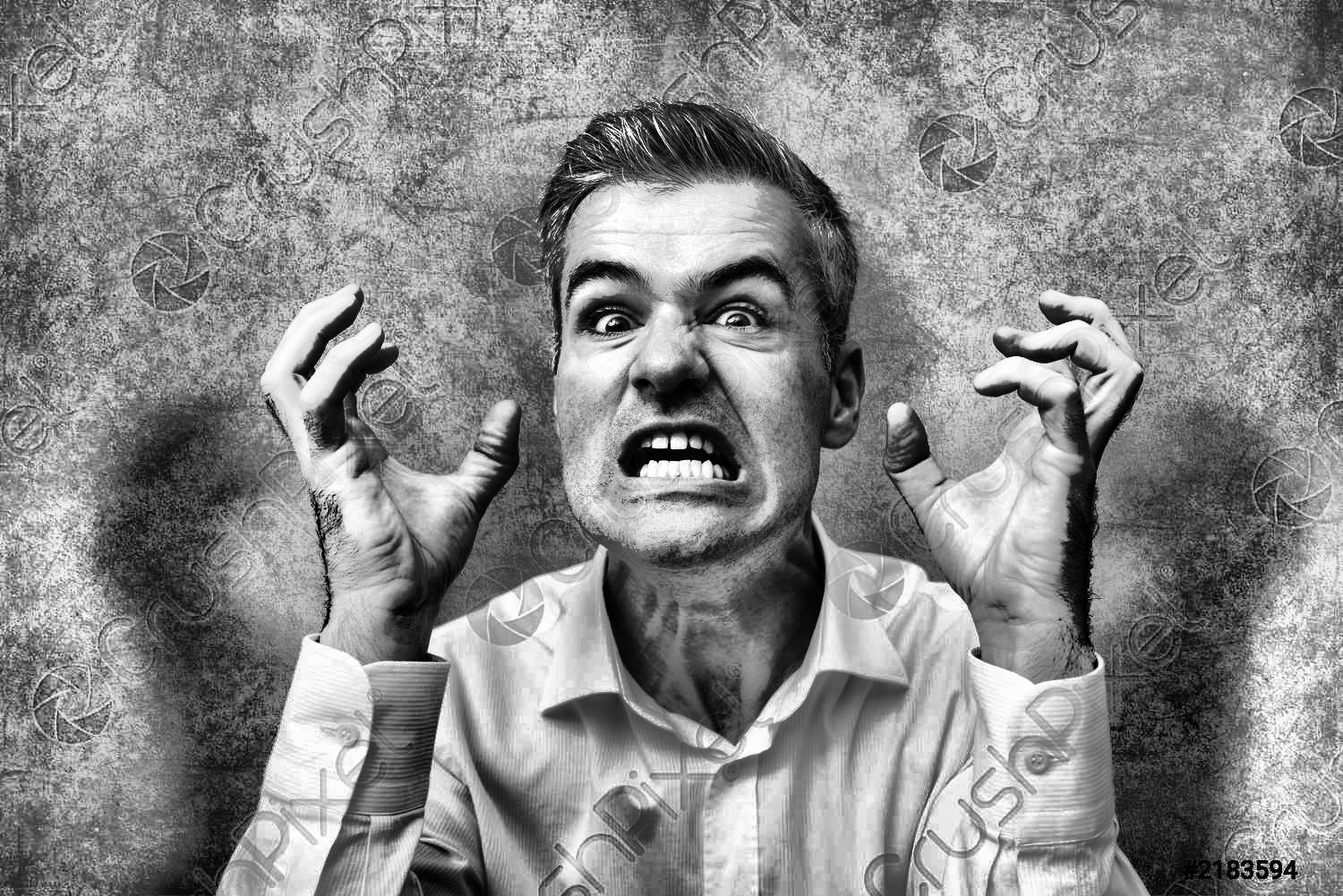angry: (525, 138, 881, 593)
